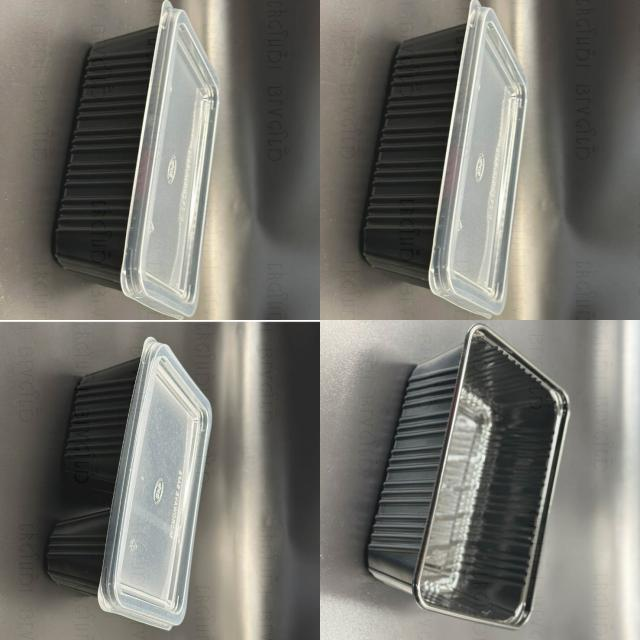Single-Use-Plastic: (368, 324, 569, 628), (52, 0, 219, 319), (361, 0, 528, 318), (48, 338, 211, 629)
